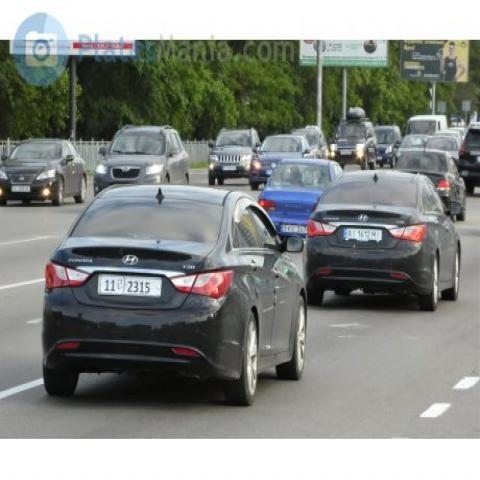LP: (89, 270, 166, 306), (342, 222, 385, 243)
